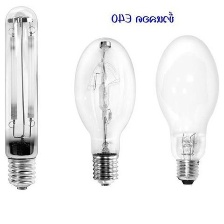light_bulb: (70, 32, 139, 190), (152, 33, 220, 187), (0, 2, 41, 192)
